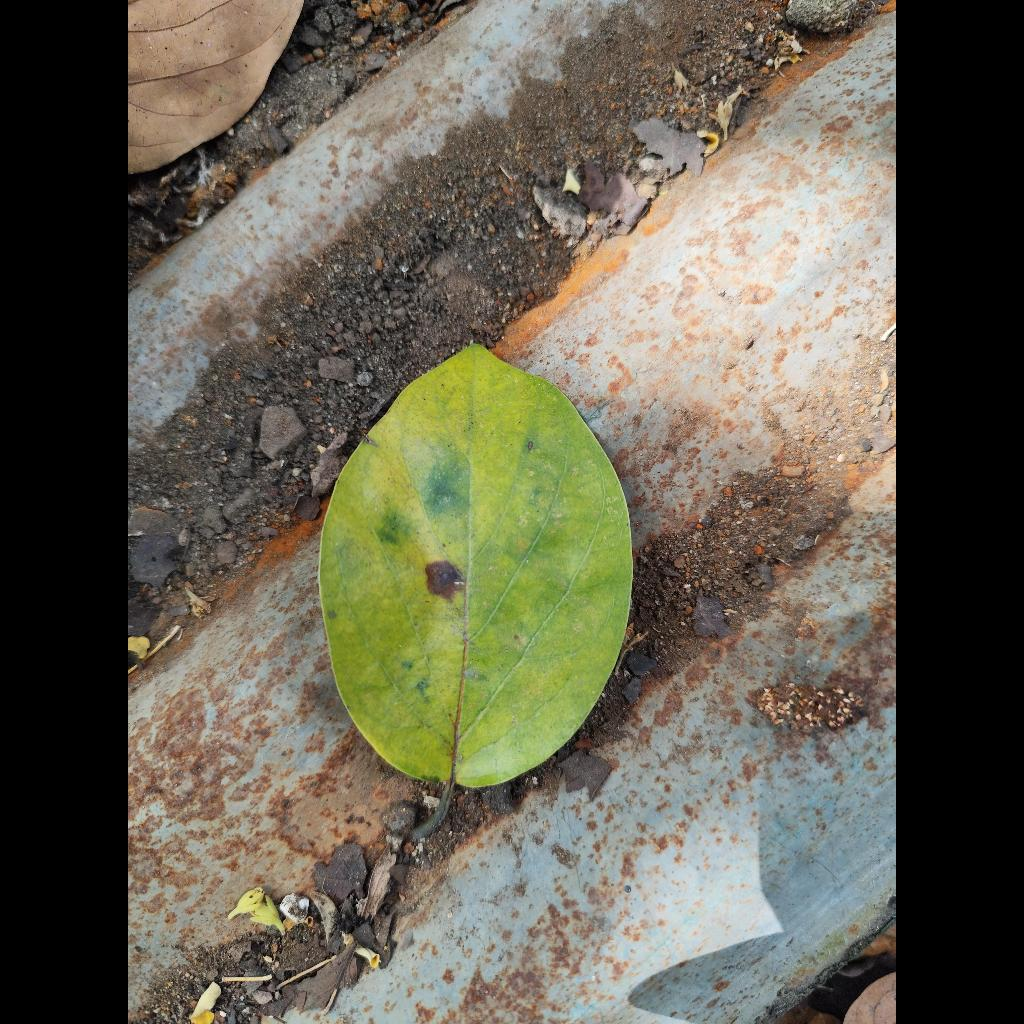deficiencia_nutricional: (319, 345, 632, 789)
